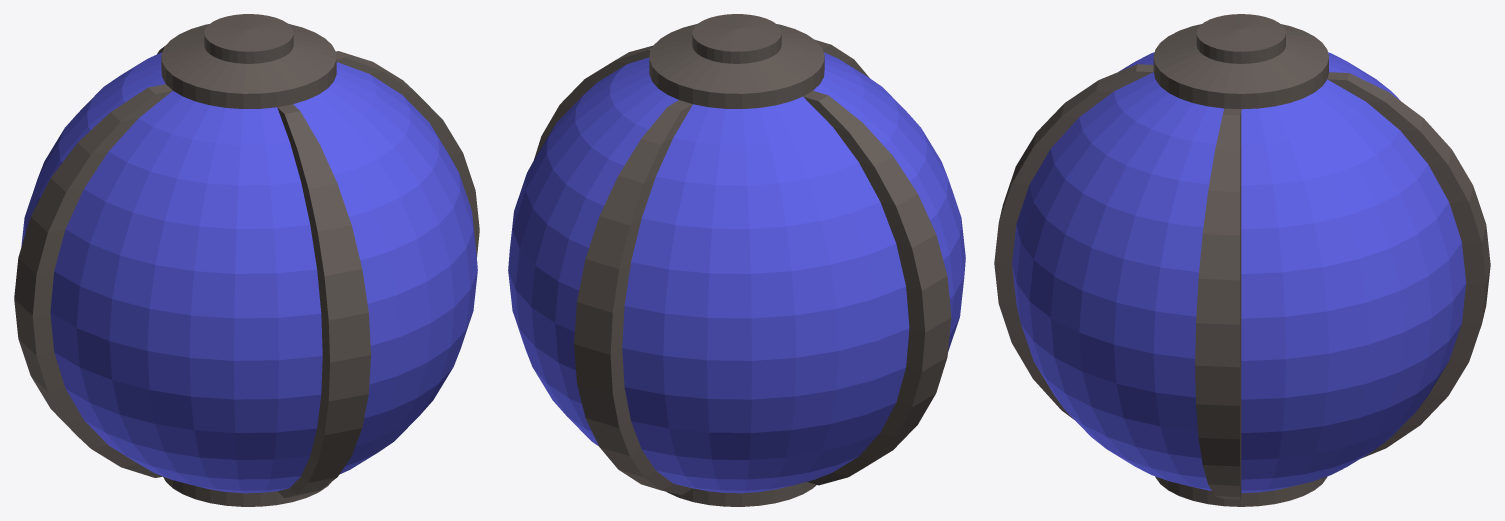
File: bomb.fbx
3 renders of one model, left to right at view 1: azimuth 30°, elevation 25°; view 2: azimuth 150°, elevation 25°; view 3: azimuth 270°, elevation 25°, orthographic.
Visible parts, largest first — view 1: 球; view 2: 球; view 3: 球.
Part boxes in pixels (<box>): 球: <box>14,14,479,506</box>; 球: <box>508,14,965,506</box>; 球: <box>994,14,1490,506</box>.
Bounding box in the file's own units: 187 × 191 × 188.
